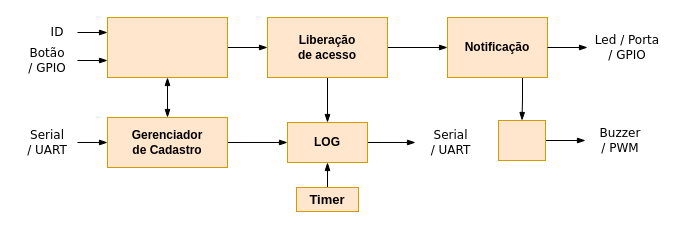
Some shapes in this 684 by 229 pixel diagram are drawn without their labels. Here are the shapes that lost their labels. From the top down, the box of each, then its label:
(106, 16, 228, 78): Verificação de usuário
(498, 120, 546, 160): DAC
